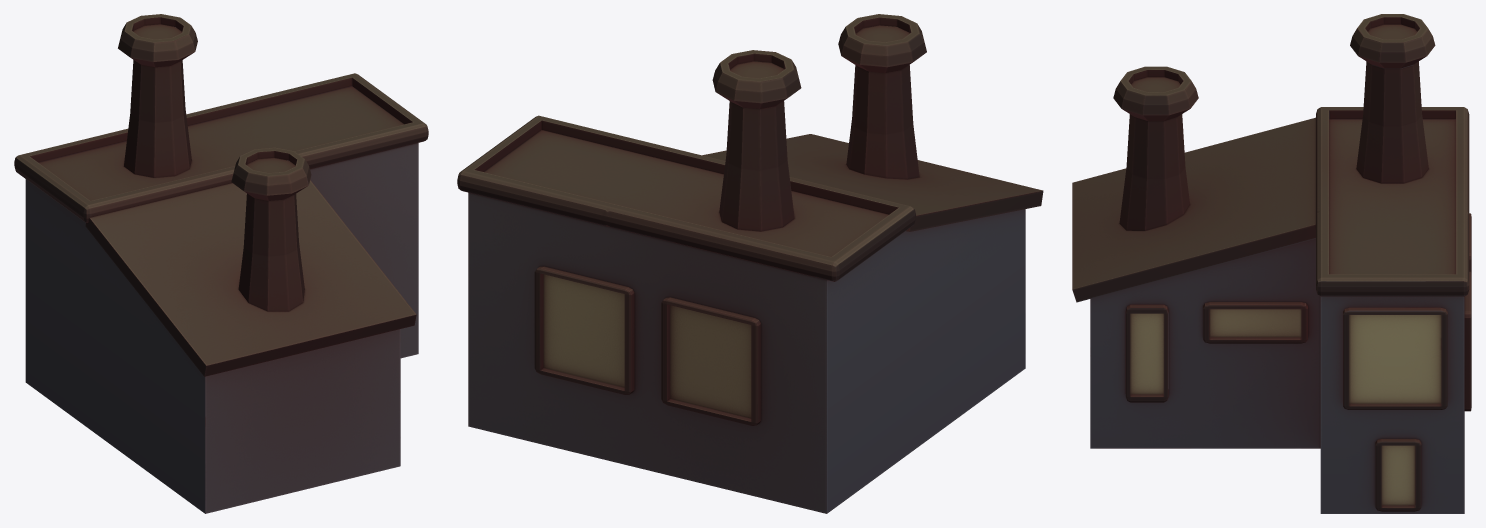
The model's file is Factory.fbx.
3 renders of one model, left to right at view 1: azimuth 30°, elevation 25°; view 2: azimuth 150°, elevation 25°; view 3: azimuth 270°, elevation 25°, orthographic. The views are drawn at different scales.
Visible parts, largest first — view 1: Factory; view 2: Factory; view 3: Factory.
Boxes of the visible parts, left/top/right/bottom form: Factory: left=14, top=14, right=428, bottom=513; Factory: left=457, top=14, right=1043, bottom=513; Factory: left=1072, top=14, right=1471, bottom=513.
Bounding box in the file's own units: 176 × 173 × 169.
